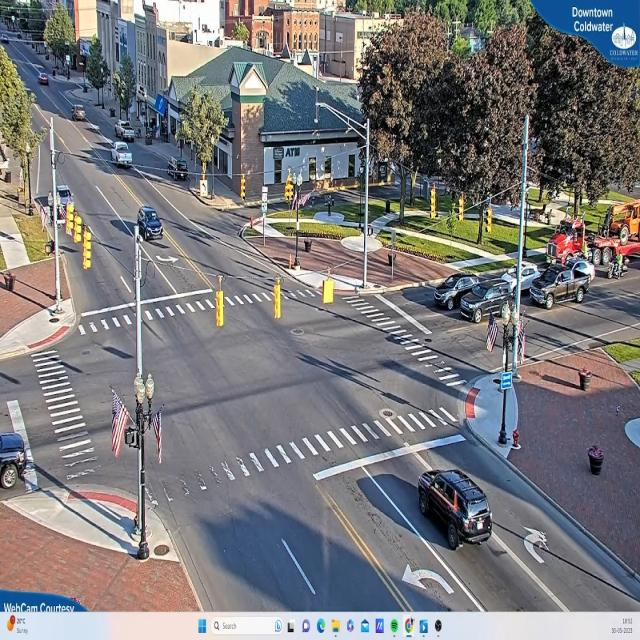car: (417, 469, 493, 551), (530, 260, 590, 308), (459, 281, 514, 327), (432, 275, 486, 308), (506, 257, 535, 295), (138, 208, 164, 240), (113, 144, 134, 167), (116, 122, 136, 142), (86, 124, 100, 133), (40, 75, 50, 86)
